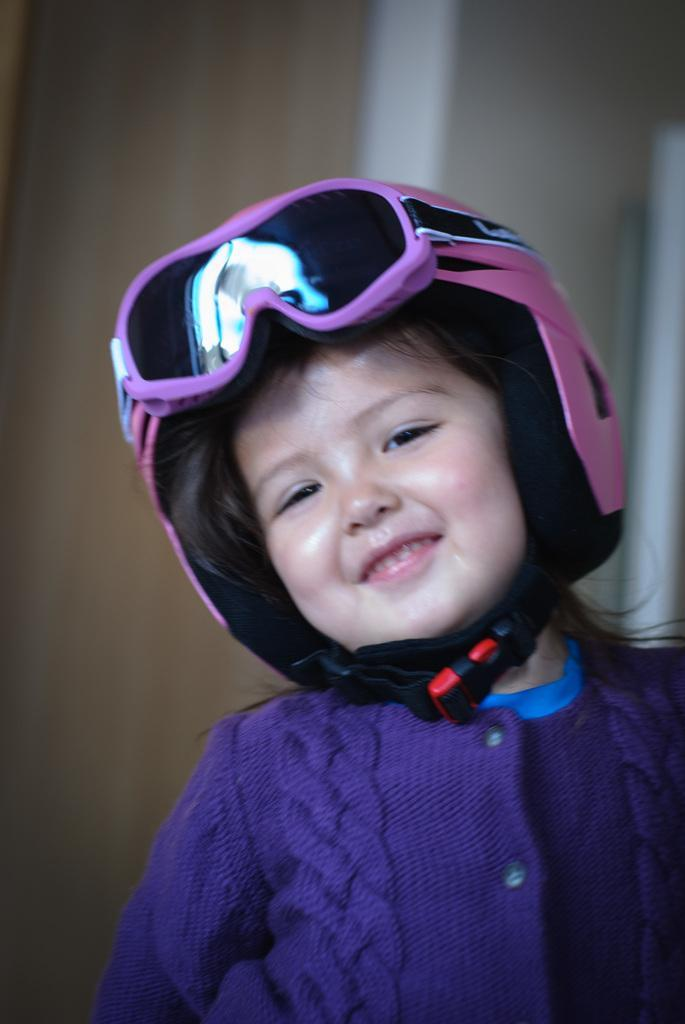helmet: (108, 172, 630, 732)
